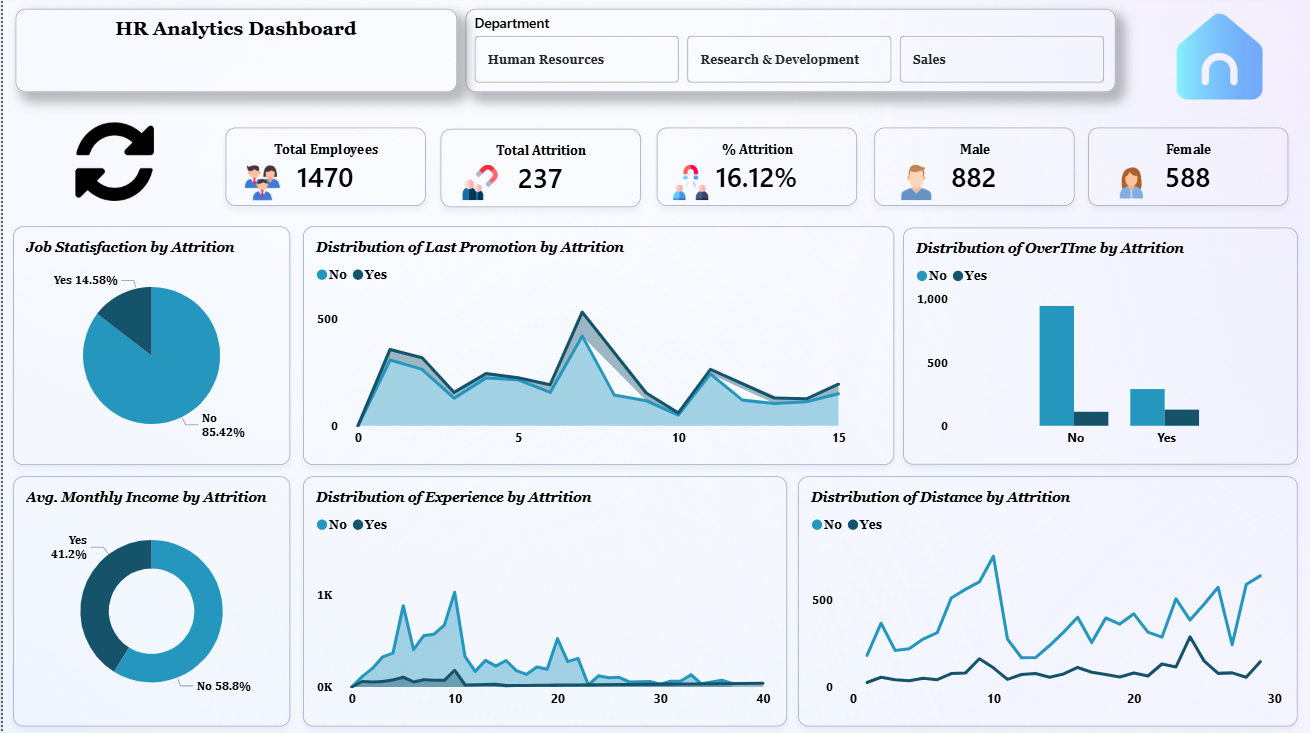

The page's visual inventory and layout, read from the dashboard file:
{"tool":"powerbi","page":{"name":"Page 2","canvas":[1280,720],"ordinal":1},"visuals":[{"type":"donutChart","title":"Avg. Monthly Income by Attrition","fields":{"Category":["HR-Employee-Attrition.Attrition"],"Y":["Avg(HR-Employee-Attrition.MonthlyIncome)"]},"box":[9.8,465.9,271.5,244.6],"z":0},{"type":"clusteredColumnChart","title":"Distribution of OverTIme by Attrition","fields":{"Category":["HR-Employee-Attrition.OverTime"],"Y":["CountNonNull(HR-Employee-Attrition.OverTime)"],"Series":["HR-Employee-Attrition.Attrition"]},"box":[880.4,222.6,386.4,232.3],"z":1000},{"type":"lineChart","title":"Distribution of Distance by Attrition","fields":{"Category":["HR-Employee-Attrition.DistanceFromHome"],"Y":["Sum(HR-Employee-Attrition.DistanceFromHome)"],"Series":["HR-Employee-Attrition.Attrition"]},"box":[777.7,465.9,489.1,244.6],"z":2000},{"type":"areaChart","title":"Distribution of Experience by Attrition","fields":{"Category":["HR-Employee-Attrition.YearsAtCompany"],"Y":["Sum(HR-Employee-Attrition.YearsAtCompany)"],"Series":["HR-Employee-Attrition.Attrition"]},"box":[293.5,465.9,473.2,244.6],"z":3000},{"type":"stackedAreaChart","title":"Distribution of Last Promotion by Attrition","fields":{"Category":["HR-Employee-Attrition.YearsSinceLastPromotion"],"Y":["Sum(HR-Employee-Attrition.YearsSinceLastPromotion)"],"Series":["HR-Employee-Attrition.Attrition"]},"box":[293.5,221.3,578.4,233.6],"z":4000},{"type":"pieChart","title":"Job Statisfaction by Attrition","fields":{"Category":["HR-Employee-Attrition.Attrition"],"Y":["Sum(HR-Employee-Attrition.JobSatisfaction)"]},"box":[9.8,221.3,271.5,233.6],"z":5000},{"type":"card","title":"Total Employees","fields":{"Values":["Measure.Total_Employee"]},"box":[217.7,124.7,195.7,77],"z":6000},{"type":"card","title":"Total Attrition","fields":{"Values":["Measure.Attrition"]},"box":[428,126,195.7,77],"z":7000},{"type":"card","title":"% Attrition","fields":{"Values":["Measure.% Attrition"]},"box":[639.5,124.7,195.7,77],"z":8000},{"type":"card","title":"Male","fields":{"Values":["Measure.Male"]},"box":[852.3,124.7,195.7,77],"z":9000},{"type":"card","title":"Female","fields":{"Values":["Measure.Female"]},"box":[1061.4,124.7,195.7,77],"z":10000},{"type":"advancedSlicerVisual","fields":{"Values":["HR-Employee-Attrition.Department"]},"box":[452.4,8.6,635.9,81.9],"z":11000},{"type":"textbox","box":[12.2,8.6,431.7,81.9],"z":12000},{"type":"image","box":[22,114.9,173.6,86.8],"z":13000},{"type":"image","box":[1122.6,8.6,134.5,94.2],"z":14000},{"type":"image","box":[217.7,156.5,72.1,45.2],"z":15000},{"type":"image","box":[852.3,156.5,81.9,44],"z":16000},{"type":"image","box":[1061.4,159,85.6,40.4],"z":17000},{"type":"image","box":[428,156.5,77,44],"z":18000},{"type":"image","box":[639.5,156.5,66,44],"z":19000}]}

Visuals, with their boxes in screenshot pixels (x1, y1, x2, y2), scaled from the page's 1280x720 canvas onto the 1310x733 screenshot:
"Avg. Monthly Income by Attrition" donutChart: 10, 474, 288, 723
"Distribution of OverTIme by Attrition" clusteredColumnChart: 901, 227, 1296, 463
"Distribution of Distance by Attrition" lineChart: 796, 474, 1296, 723
"Distribution of Experience by Attrition" areaChart: 300, 474, 785, 723
"Distribution of Last Promotion by Attrition" stackedAreaChart: 300, 225, 892, 463
"Job Statisfaction by Attrition" pieChart: 10, 225, 288, 463
"Total Employees" card: 223, 127, 423, 205
"Total Attrition" card: 438, 128, 638, 207
"% Attrition" card: 654, 127, 855, 205
"Male" card: 872, 127, 1073, 205
"Female" card: 1086, 127, 1287, 205
advancedSlicerVisual - HR-Employee-Attrition.Department: 463, 9, 1114, 92
textbox: 12, 9, 454, 92
image: 23, 117, 200, 205
image: 1149, 9, 1287, 105
image: 223, 159, 297, 205
image: 872, 159, 956, 204
image: 1086, 162, 1174, 203
image: 438, 159, 517, 204
image: 654, 159, 722, 204
